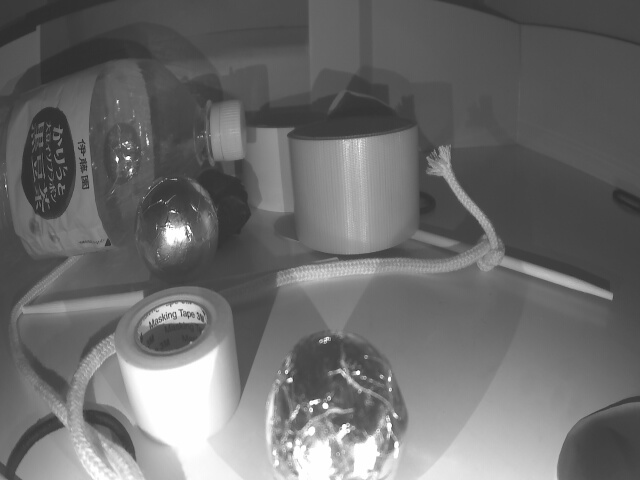Dead: (198, 165, 249, 235)
Live: (268, 331, 409, 480), (130, 179, 221, 284)
